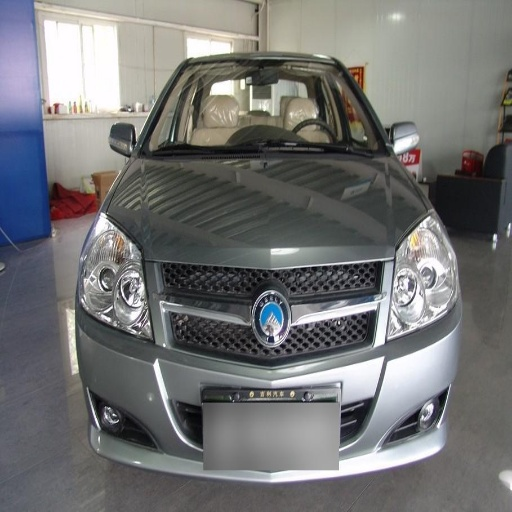front_bumper: (78, 260, 461, 486)
front_right_light: (80, 214, 155, 341)
hood: (107, 156, 427, 270)
